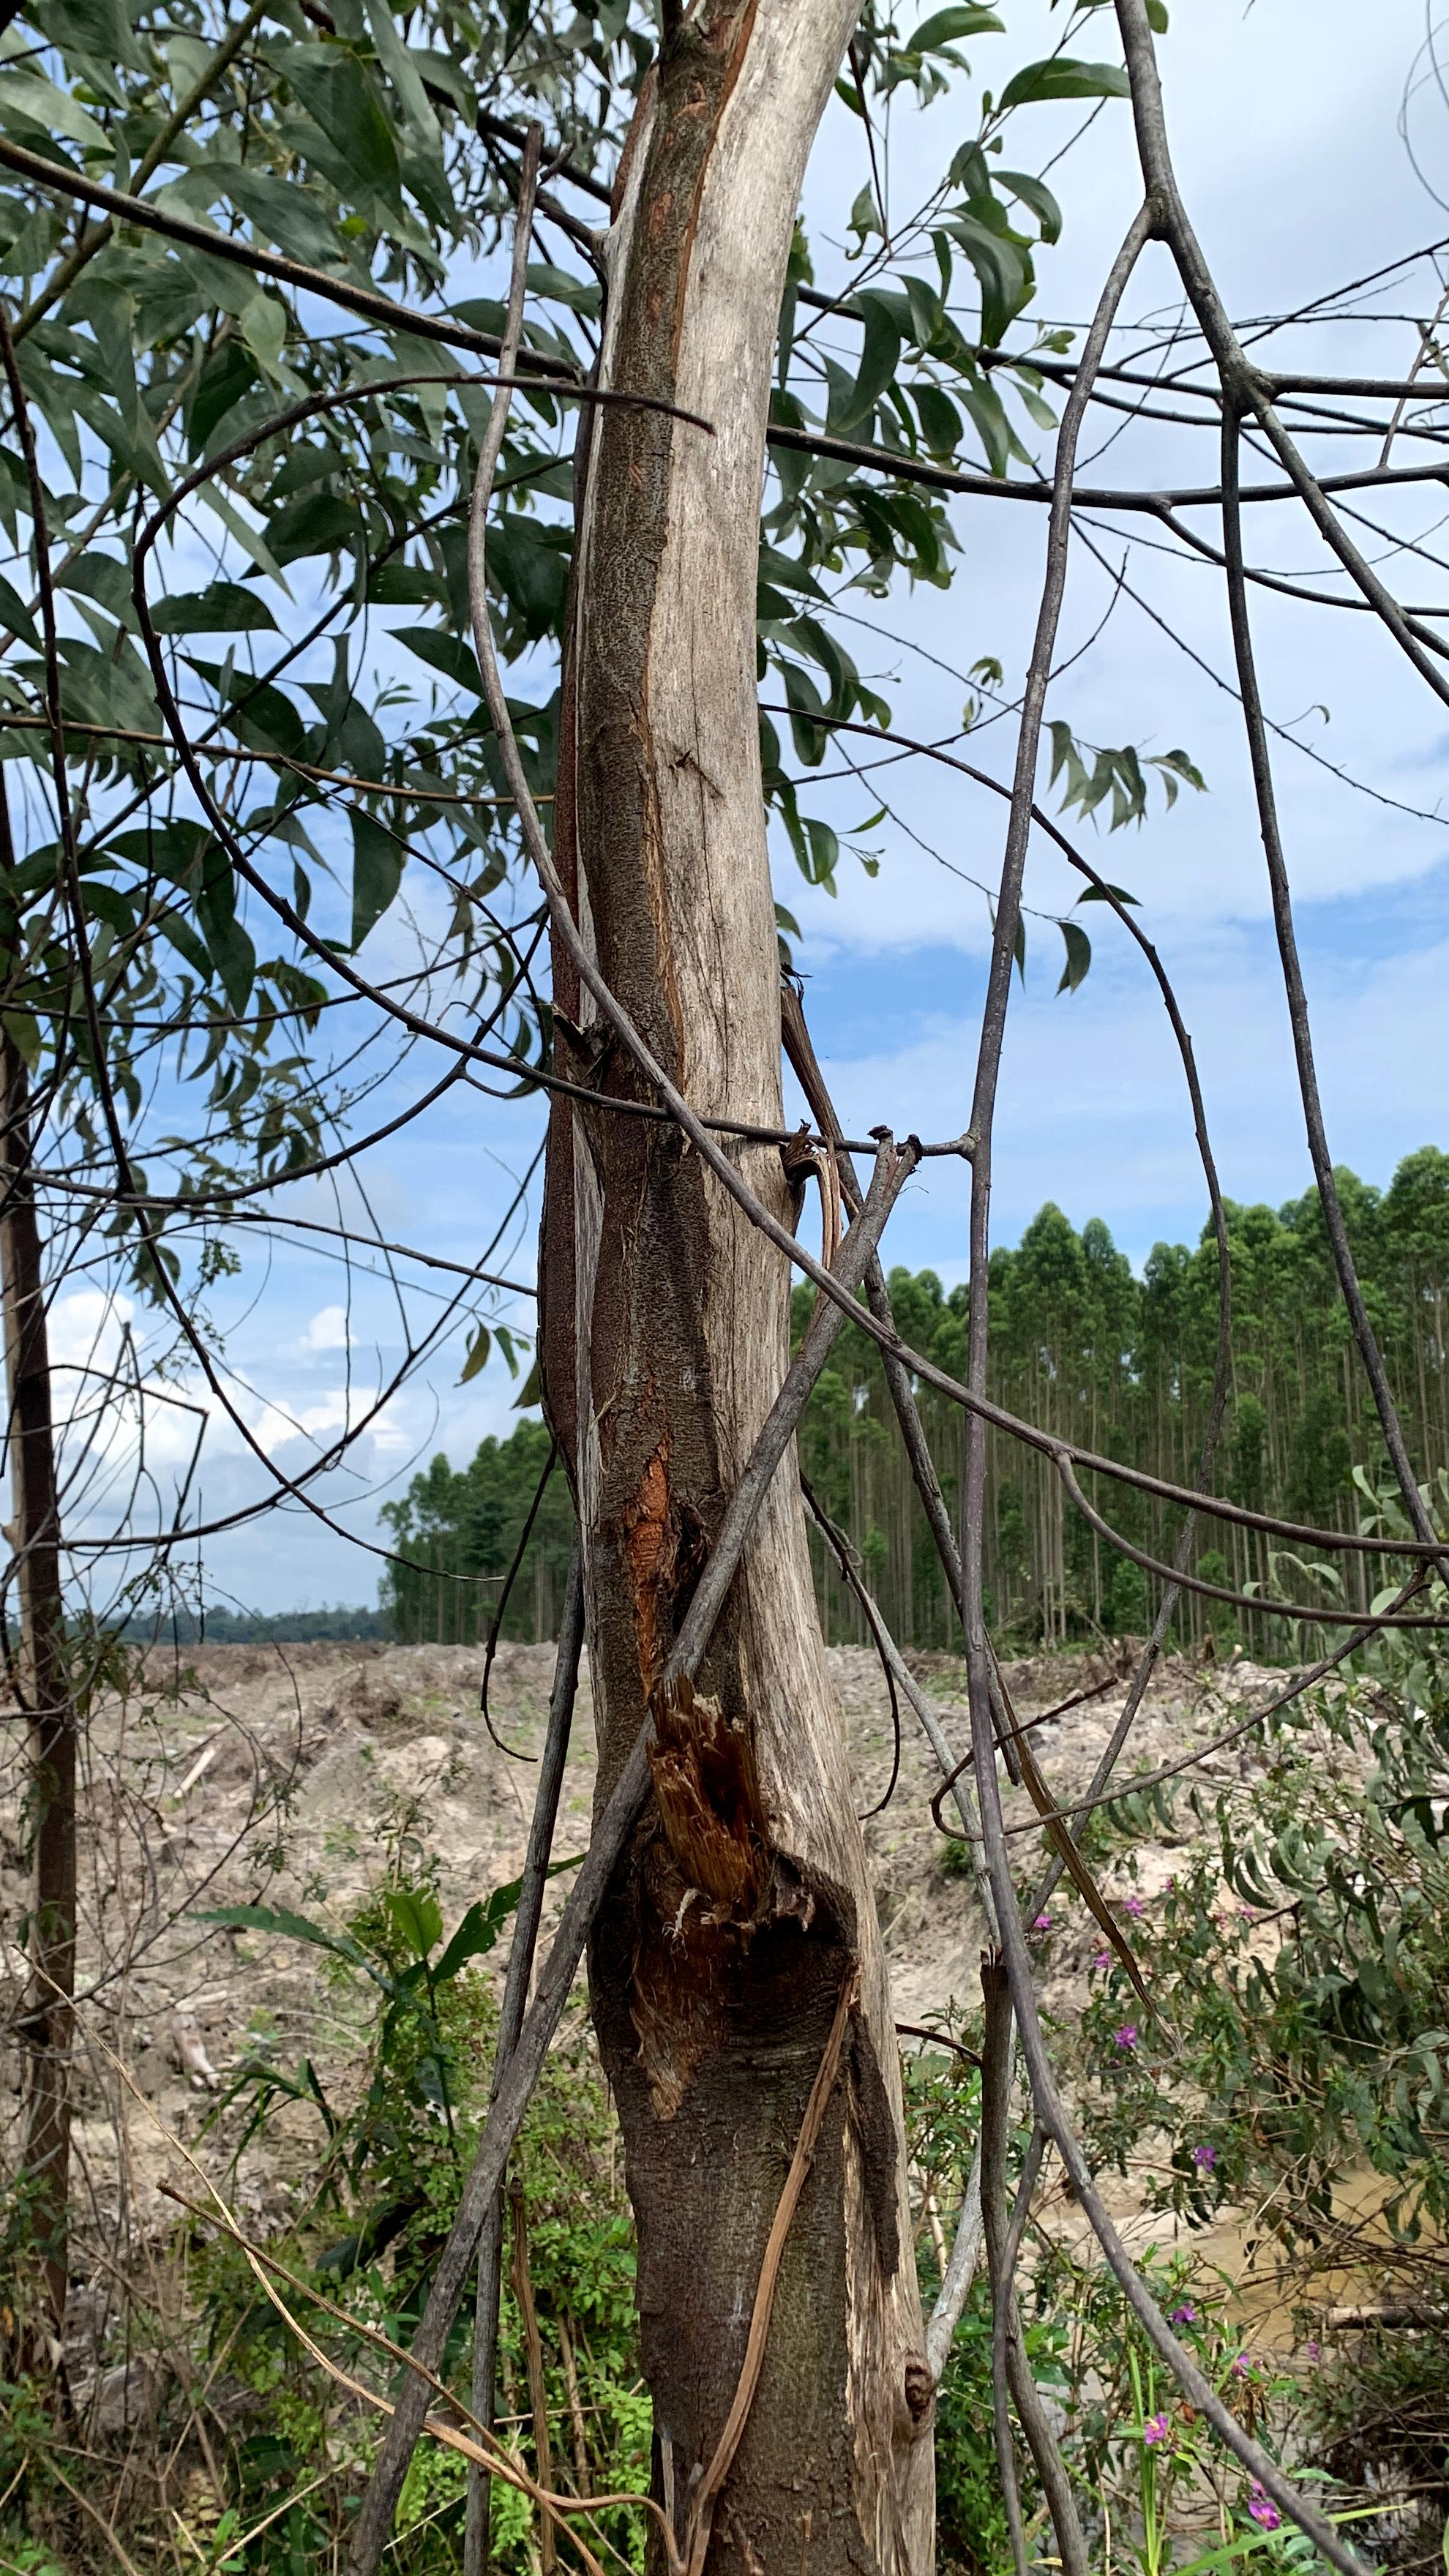Mammals Attack: (587, 2, 975, 2576)
